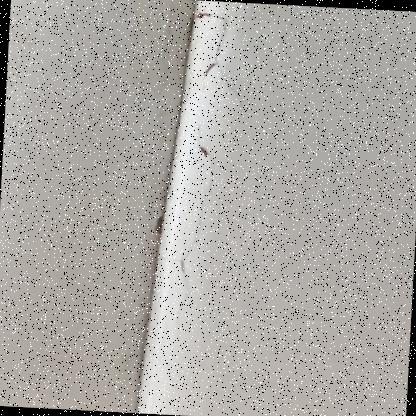Crack: (54, 0, 309, 415)
